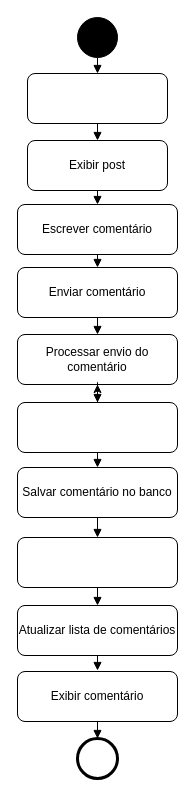
Some shapes in this 195 by 797 pixel diagram are drawn without their labels. Here are the shapes that lost their labels. From the top down, the box of each, then its label:
(26, 72, 168, 124): Visualizar post
(16, 402, 178, 452): Registrar comentário no sistema
(16, 536, 178, 588): Confirmar salvamento
